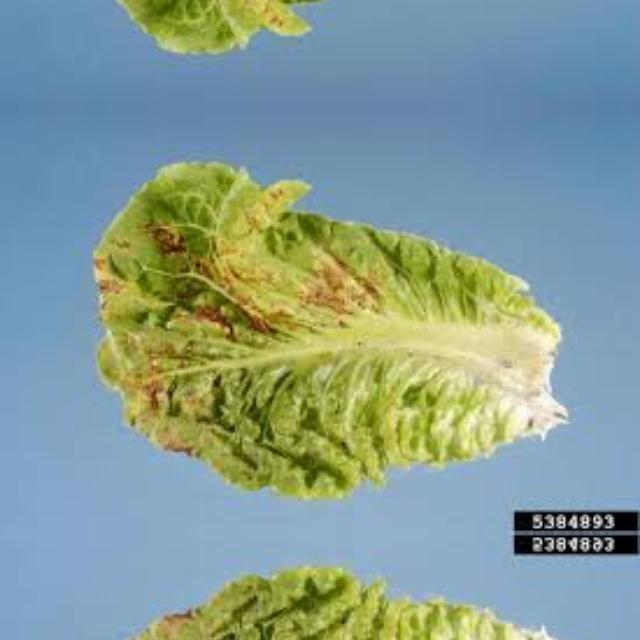Lettuce - Anthracnose: (94, 160, 568, 502), (93, 564, 568, 640), (93, 0, 568, 54)
